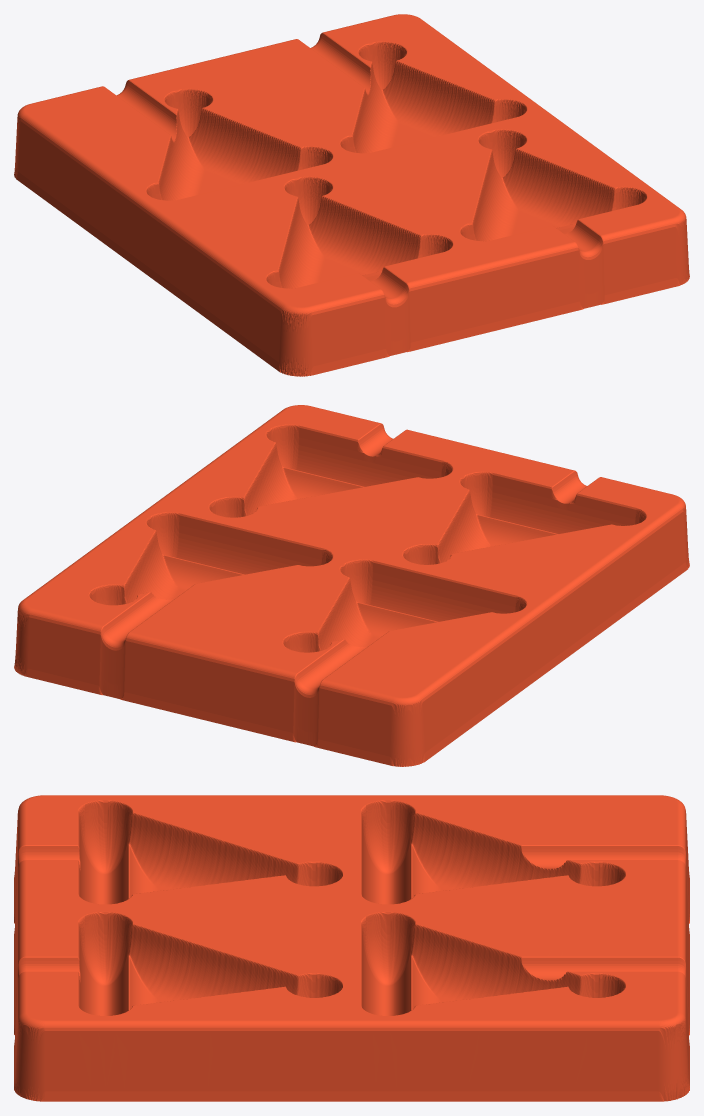
The model's file is mold.glb.
The picture shows the model from 3 angles, top to bottom: view 1: azimuth 30°, elevation 25°; view 2: azimuth 150°, elevation 25°; view 3: azimuth 270°, elevation 25°; orthographic projection. The views are drawn at different scales.
Parts seen in each view (by area): view 1: geometry_0; view 2: geometry_0; view 3: geometry_0.
Boxes of the visible parts, x1,y1,x2,y2 form: geometry_0: (14, 14, 689, 376); geometry_0: (14, 405, 689, 766); geometry_0: (14, 795, 689, 1101).
Bounding box in the file's own units: 0.1617 × 0.0245 × 0.1968.
